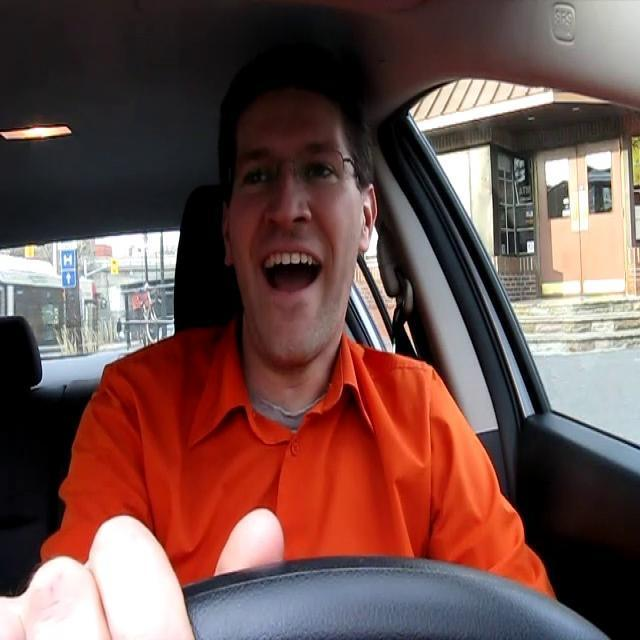open-mouth: (256, 237, 328, 304)
